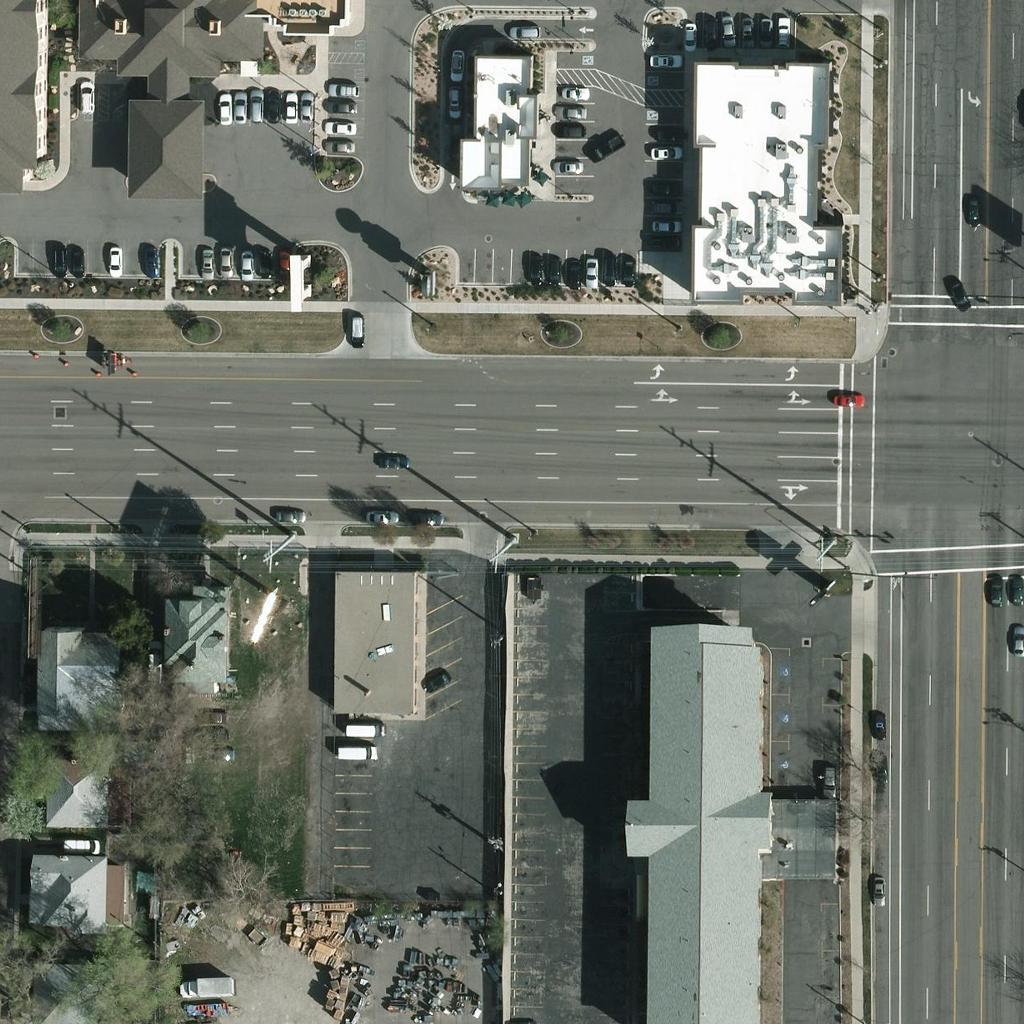car: (710, 13, 744, 47), (731, 14, 765, 48), (506, 15, 540, 49), (694, 15, 728, 49), (748, 15, 782, 49), (765, 15, 799, 49), (672, 19, 706, 53), (648, 42, 682, 76), (439, 46, 473, 80), (326, 73, 360, 107), (554, 77, 588, 111), (67, 79, 101, 113), (439, 85, 473, 119), (239, 88, 273, 122), (256, 88, 290, 122), (323, 90, 357, 124), (222, 91, 256, 125), (272, 91, 306, 125), (288, 91, 322, 125), (207, 92, 241, 126), (322, 111, 356, 145), (657, 117, 691, 151), (322, 128, 356, 162), (646, 135, 680, 169), (642, 171, 676, 205), (649, 189, 683, 223), (957, 194, 991, 228), (649, 206, 683, 240), (134, 242, 168, 276), (60, 243, 94, 277), (207, 243, 241, 277), (96, 244, 130, 278), (266, 245, 300, 279), (41, 246, 75, 280), (190, 246, 224, 280), (229, 248, 263, 282), (249, 248, 283, 282), (521, 252, 555, 286), (538, 252, 572, 286), (572, 253, 606, 287), (610, 254, 644, 288), (592, 256, 626, 290), (558, 257, 592, 291), (942, 277, 976, 311), (339, 311, 373, 345), (826, 382, 860, 416), (373, 442, 407, 476), (372, 443, 406, 477), (270, 497, 304, 531), (361, 500, 395, 534), (406, 501, 440, 535), (978, 574, 1012, 608), (417, 666, 451, 700), (191, 698, 225, 732), (862, 705, 896, 739), (351, 713, 385, 747), (344, 734, 378, 768), (812, 764, 846, 798), (64, 829, 98, 863), (860, 872, 894, 906), (1000, 625, 1024, 659), (1001, 574, 1024, 608)
